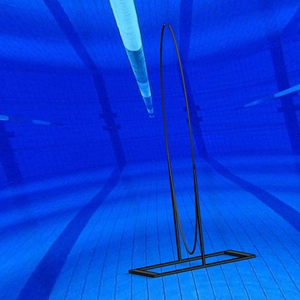circle: (128, 21, 257, 280)
